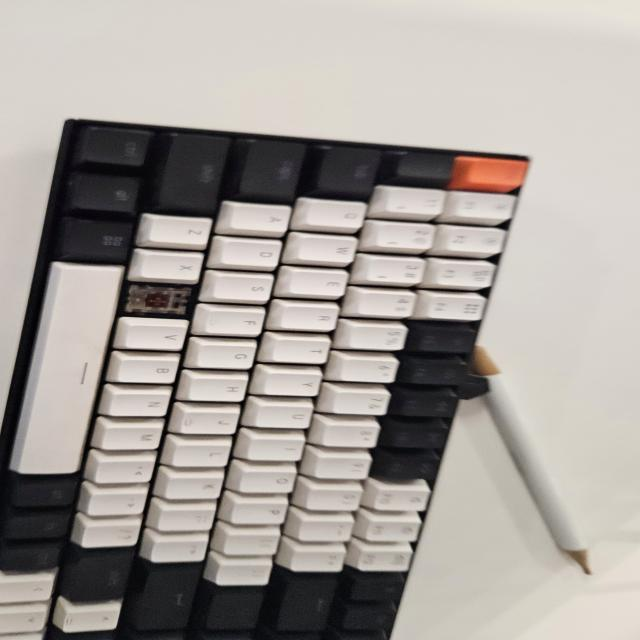C: (130, 290, 190, 314)
